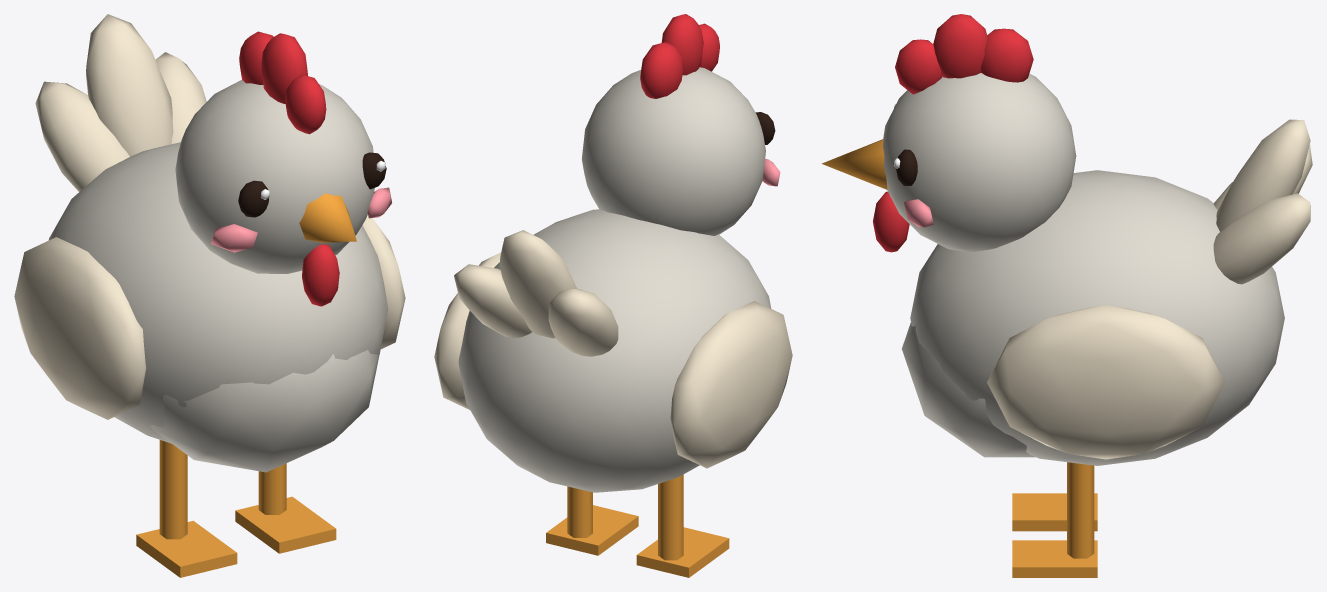
The model's file is chicken.glb.
3 renders of one model, left to right at view 1: azimuth 30°, elevation 25°; view 2: azimuth 150°, elevation 25°; view 3: azimuth 270°, elevation 25°, orthographic. The views are drawn at different scales.
Visible parts, largest first — view 1: Hen_Body, Hen_Wing_L, Hen_Leg_L, Hen_Leg_R, Hen_Wing_R; view 2: Hen_Body, Hen_Wing_L, Hen_Leg_L, Hen_Leg_R, Hen_Wing_R; view 3: Hen_Body, Hen_Wing_R, Hen_Leg_R, Hen_Leg_L.
Boxes of the visible parts, <box> form: Hen_Body: <box>35,14,391,472</box>; Hen_Wing_L: <box>14,237,146,419</box>; Hen_Leg_L: <box>136,440,237,577</box>; Hen_Leg_R: <box>235,463,336,553</box>; Hen_Wing_R: <box>362,214,405,349</box>; Hen_Body: <box>454,14,780,492</box>; Hen_Wing_L: <box>670,301,792,468</box>; Hen_Leg_L: <box>636,474,729,577</box>; Hen_Leg_R: <box>546,486,638,555</box>; Hen_Wing_R: <box>434,252,500,409</box>; Hen_Body: <box>822,14,1312,465</box>; Hen_Wing_R: <box>987,305,1225,459</box>; Hen_Leg_R: <box>1012,462,1097,577</box>; Hen_Leg_L: <box>1012,493,1097,531</box>.
Size of the model in its own units: 0.4121 by 0.683 by 0.5771.
